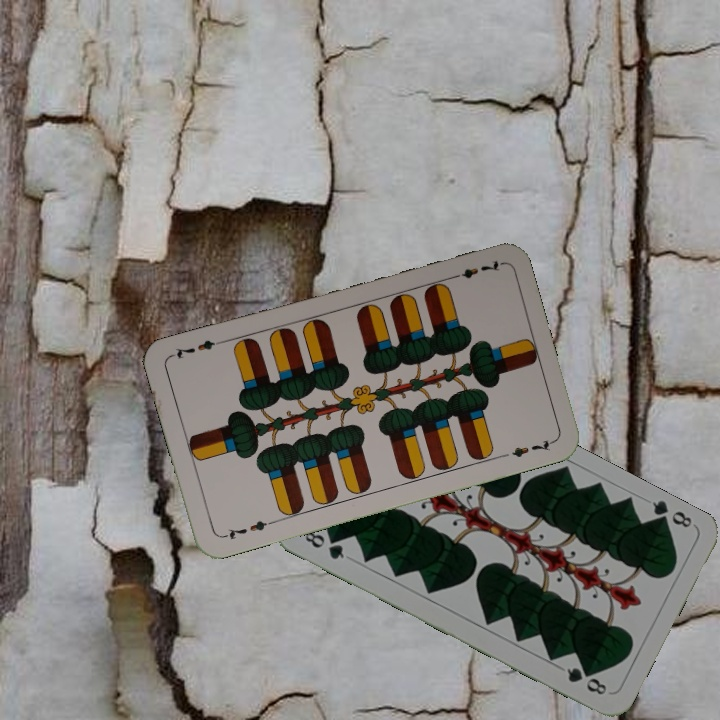E7: (218, 516, 276, 543), (446, 256, 504, 282)
G8: (648, 496, 695, 532), (300, 527, 347, 562)
